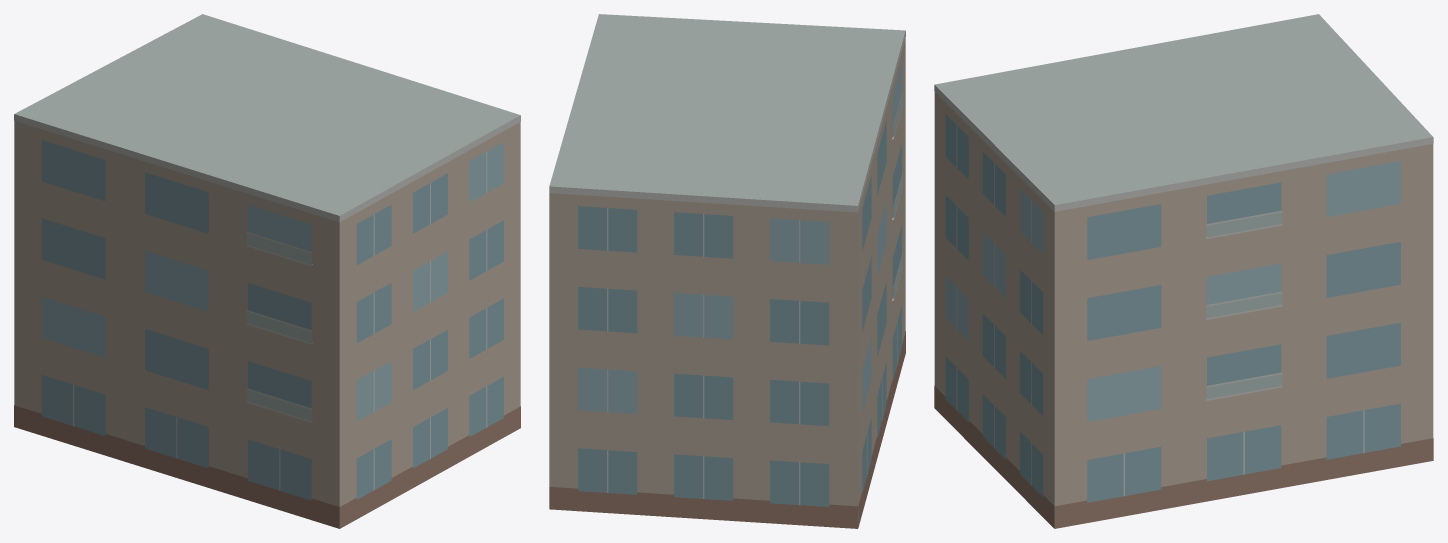
Rendered from survey-upis-33016920.glb.
3 views of the same model, side by side, from view 1: azimuth 30°, elevation 25°; view 2: azimuth 150°, elevation 25°; view 3: azimuth 270°, elevation 25° (orthographic). The views are drawn at different scales.
Visible parts, largest first — view 1: survey-upis-33016920.tmp; view 2: survey-upis-33016920.tmp; view 3: survey-upis-33016920.tmp.
Boxes of the visible parts, box(x1,y1,x2,y2) form: survey-upis-33016920.tmp: box(14, 14, 520, 528); survey-upis-33016920.tmp: box(549, 14, 905, 528); survey-upis-33016920.tmp: box(934, 14, 1433, 528).
Size of the model in its own units: 15.03 by 11.85 by 16.57.
